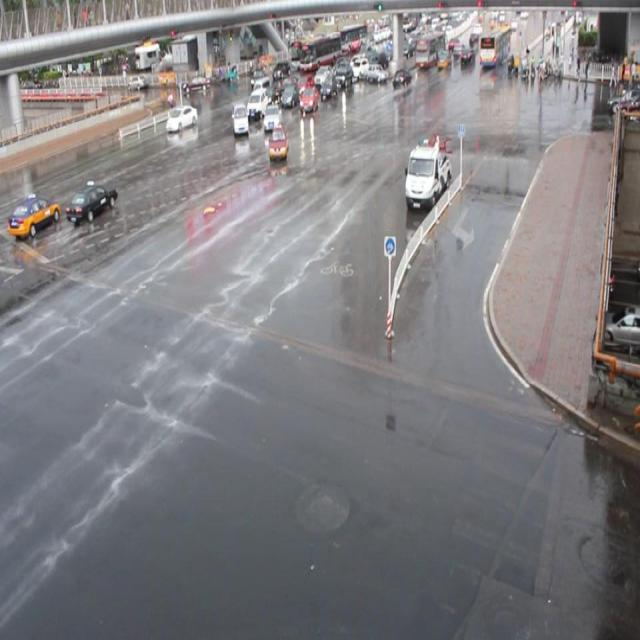bus: (404, 144, 451, 212)
car: (0, 193, 60, 235), (65, 180, 119, 221), (165, 104, 198, 130), (268, 124, 289, 159), (298, 86, 318, 112), (257, 88, 279, 111), (263, 105, 282, 131), (290, 76, 311, 98), (280, 84, 300, 107), (319, 76, 338, 97)
truck: (243, 89, 265, 122), (230, 101, 249, 135), (251, 75, 271, 99)
